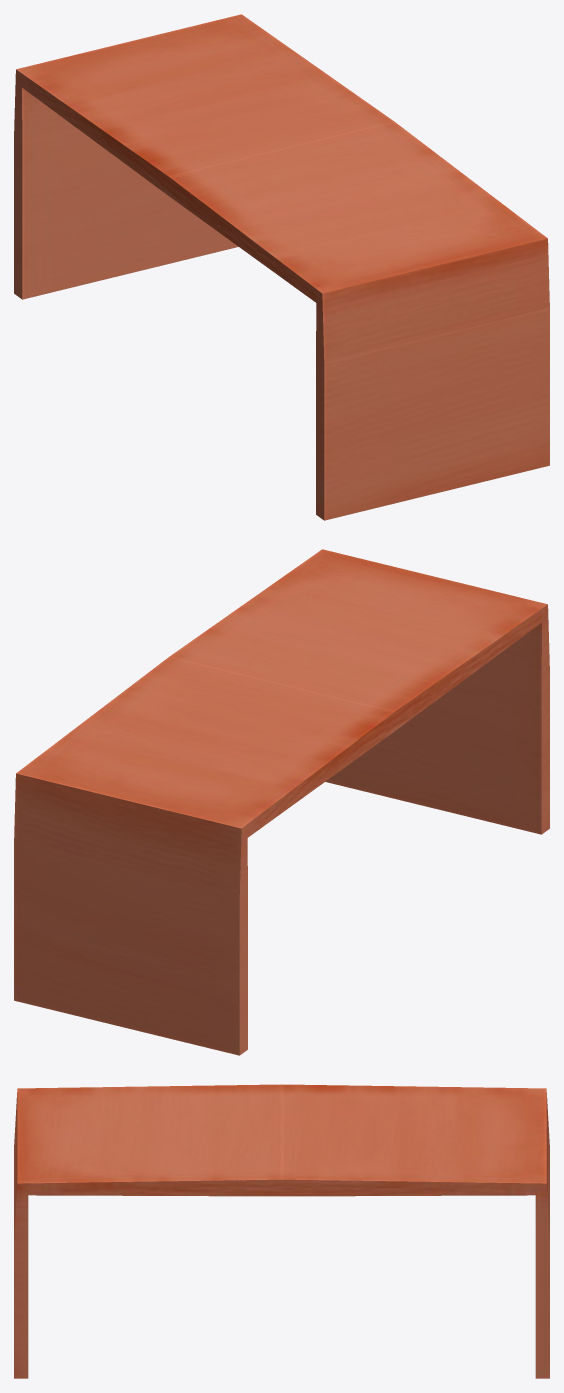
Rendered from scrivania camera.FBX.
3 renders of one model, top to bottom at view 1: azimuth 30°, elevation 25°; view 2: azimuth 150°, elevation 25°; view 3: azimuth 270°, elevation 25°, orthographic. The views are drawn at different scales.
Visible parts, largest first — view 1: scrivania camera; view 2: scrivania camera; view 3: scrivania camera.
Boxes of the visible parts, box(x1,y1,x2,y2) form: scrivania camera: box(14, 14, 549, 520); scrivania camera: box(14, 549, 549, 1055); scrivania camera: box(14, 1084, 549, 1378).
Size of the model in its own units: 0.6063 by 0.591 by 1.44.
